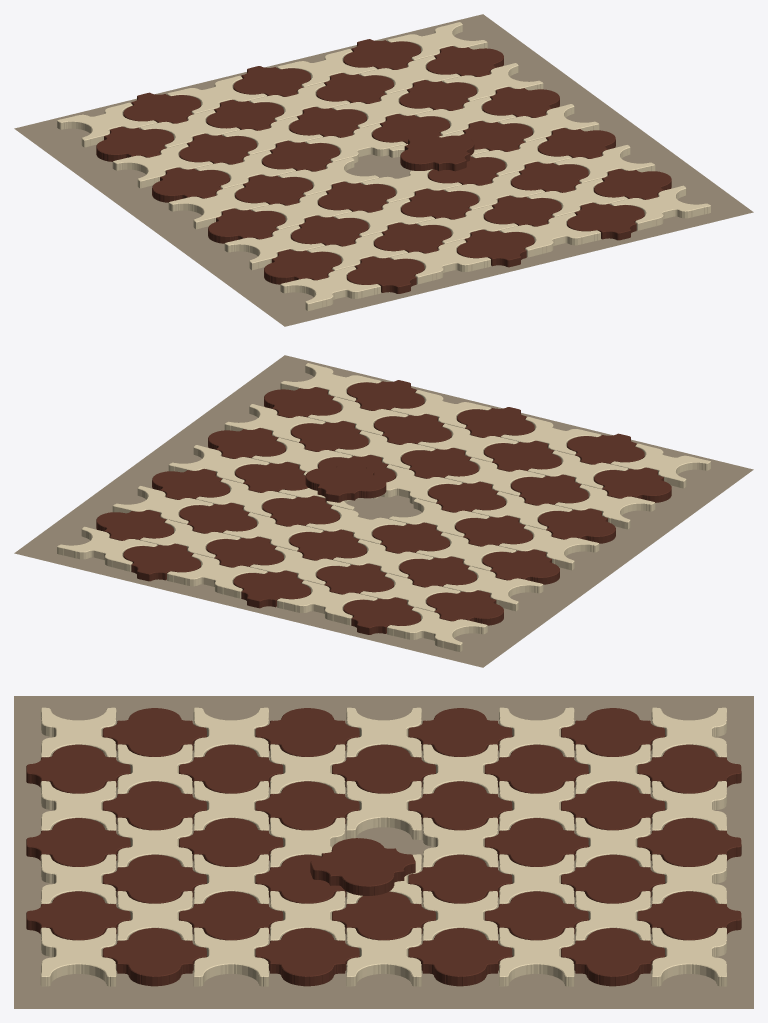
File: terilgan.glb
The picture shows the model from 3 angles, top to bottom: view 1: azimuth 30°, elevation 25°; view 2: azimuth 150°, elevation 25°; view 3: azimuth 270°, elevation 25°; orthographic projection. The views are drawn at different scales.
Visible parts, largest first — view 1: qum, t.035, t.060, t.028, t.053, t.042, t.029, t.007, t.002, t.016, t.061, t.062 (+51 smaller); view 2: qum, t.035, t, t.026, t.004, t.013, t.002, t.007, t.029, t.016, t.027, t.041 (+51 smaller); view 3: qum, t.035, t.062, t.059, t.052, t.041, t.042, t.004, t.053, t.013, t.060, t.026 (+52 smaller).
Part boxes in pixels (bbox=[...]): qum: bbox=[14, 14, 753, 326]; t.035: bbox=[400, 135, 474, 171]; t.060: bbox=[567, 202, 644, 240]; t.028: bbox=[280, 266, 380, 310]; t.053: bbox=[457, 229, 534, 267]; t.042: bbox=[347, 256, 424, 293]; t.029: bbox=[264, 249, 341, 284]; t.007: bbox=[152, 167, 229, 202]; t.002: bbox=[96, 126, 173, 161]; t.016: bbox=[208, 208, 285, 243]; t.061: bbox=[610, 185, 710, 230]; t.062: bbox=[594, 169, 671, 199]; qum: bbox=[14, 355, 753, 667]; t.035: bbox=[305, 463, 386, 502]; t: bbox=[387, 607, 487, 651]; t.026: bbox=[123, 543, 200, 581]; t.004: bbox=[343, 597, 420, 634]; t.013: bbox=[233, 570, 310, 608]; t.002: bbox=[426, 590, 503, 625]; t.007: bbox=[482, 549, 559, 584]; t.029: bbox=[594, 467, 671, 502]; t.016: bbox=[538, 508, 615, 543]; t.027: bbox=[57, 526, 157, 571]; t.041: bbox=[96, 510, 173, 540]; qum: bbox=[14, 696, 753, 1008]; t.035: bbox=[310, 838, 415, 895]; t.062: bbox=[102, 928, 206, 986]; t.059: bbox=[255, 928, 359, 986]; t.052: bbox=[408, 928, 512, 986]; t.041: bbox=[561, 928, 665, 986]; t.042: bbox=[26, 744, 130, 793]; t.004: bbox=[637, 744, 741, 793]; t.053: bbox=[26, 818, 130, 866]; t.013: bbox=[637, 818, 741, 866]; t.060: bbox=[26, 891, 130, 940]; t.026: bbox=[637, 891, 741, 940].
Bounding box in the file's own units: 1.66 × 0.052 × 1.66.
